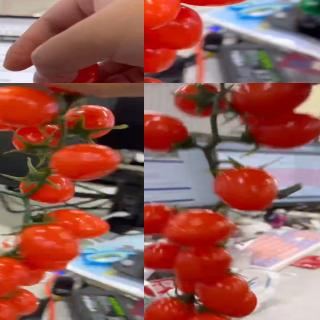tomato: (241, 109, 320, 149), (212, 166, 278, 213), (48, 142, 122, 182), (162, 208, 236, 248), (16, 223, 84, 264), (232, 83, 313, 117), (144, 6, 204, 50), (171, 242, 234, 283), (196, 272, 251, 315), (38, 208, 111, 240), (0, 86, 58, 126), (63, 104, 117, 144), (18, 168, 77, 204), (170, 83, 231, 117), (144, 111, 194, 152), (8, 122, 64, 156), (0, 255, 31, 299), (144, 295, 198, 320), (0, 286, 40, 318), (144, 203, 177, 239), (144, 240, 181, 272), (144, 0, 179, 32), (180, 310, 234, 320), (0, 297, 20, 320), (144, 76, 174, 83)
